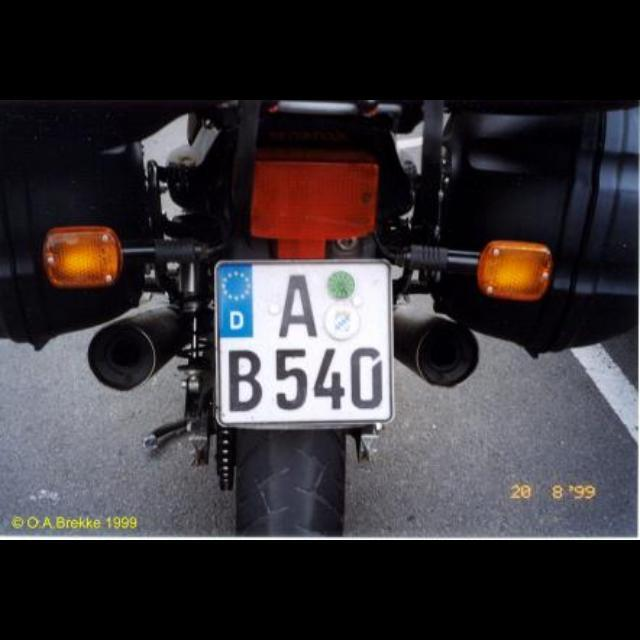license-plates: (215, 260, 394, 430)
